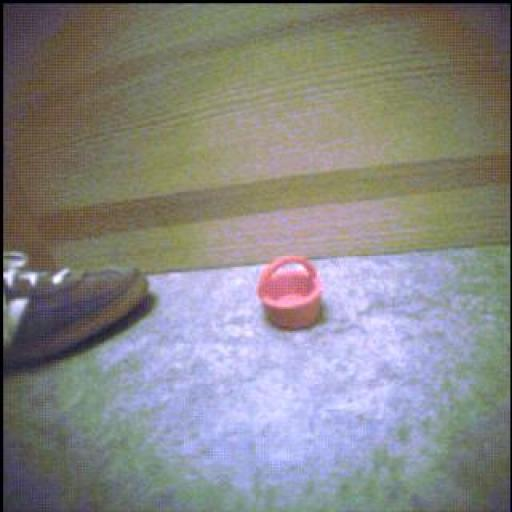Bucket: (259, 257, 323, 331)
